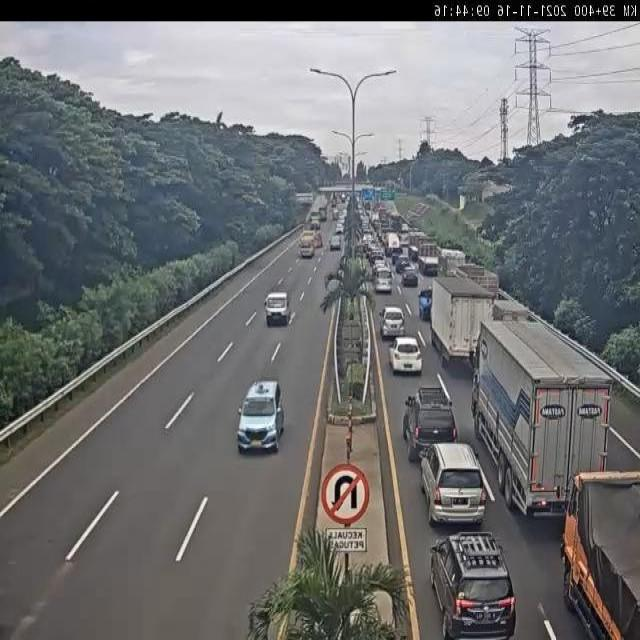Car: (429, 530, 516, 640), (419, 441, 487, 526), (401, 385, 459, 461), (237, 378, 284, 452), (388, 336, 423, 376), (380, 306, 406, 340), (394, 255, 411, 273), (402, 267, 418, 286), (391, 247, 403, 265), (329, 235, 342, 251), (335, 222, 344, 235), (337, 215, 345, 226), (332, 208, 339, 220)
Truck: (470, 311, 615, 516), (553, 466, 640, 639), (430, 274, 494, 371), (454, 261, 502, 298), (264, 287, 292, 326), (417, 237, 443, 273), (438, 248, 469, 278), (492, 299, 530, 322), (407, 230, 427, 258), (299, 232, 316, 257), (386, 231, 401, 256), (309, 212, 322, 230), (318, 206, 328, 222)
Van: (374, 267, 395, 296)
